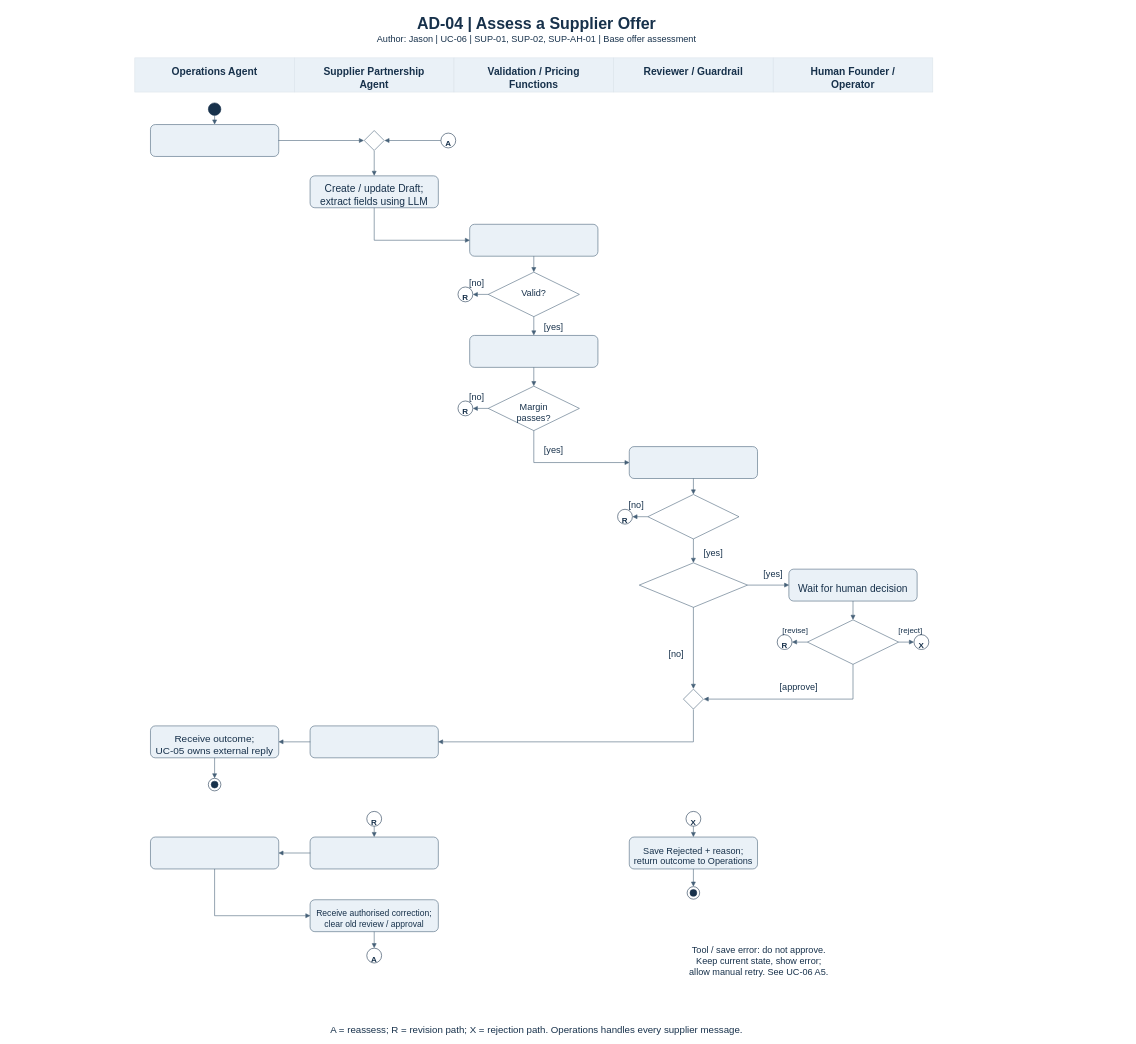
The diagram is 1136 pixels wide and 1044 high, and some of its shapes have lost their labels. The shapes that lost their labels are listed below. From the top down, each one's centre as x and y in pixels, then its label:
the point at 214,140: Forward confirmed case from UC-05
the point at 533,240: Validate fields, stock, price, expiry and terms
the point at 533,351: Calculate selling price and check minimum margin
the point at 693,462: Check source evidence, calculations and rules
the point at 693,516: Review passes?
the point at 693,584: Human approval required?
the point at 853,641: Decision?
the point at 374,741: Save Approved offer, PriceBreakdown and trace
the point at 214,852: Coordinate correction / supplier confirmation
the point at 374,852: Save RevisionRequired and correction reason
